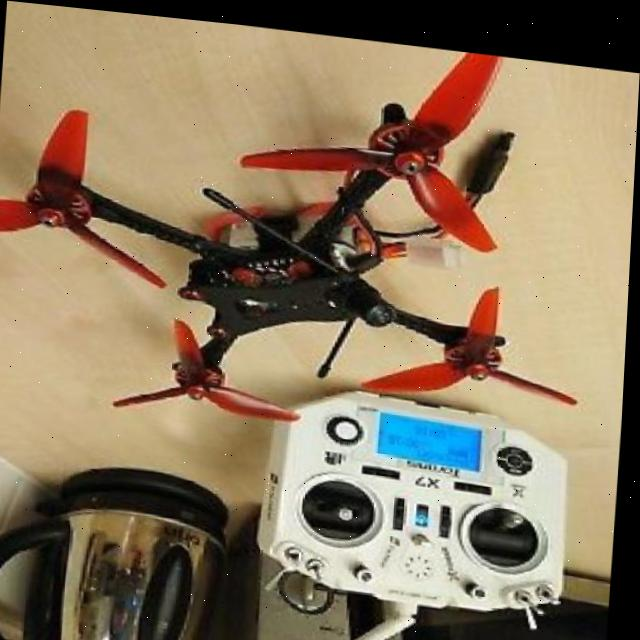drones: (0, 0, 623, 465)
